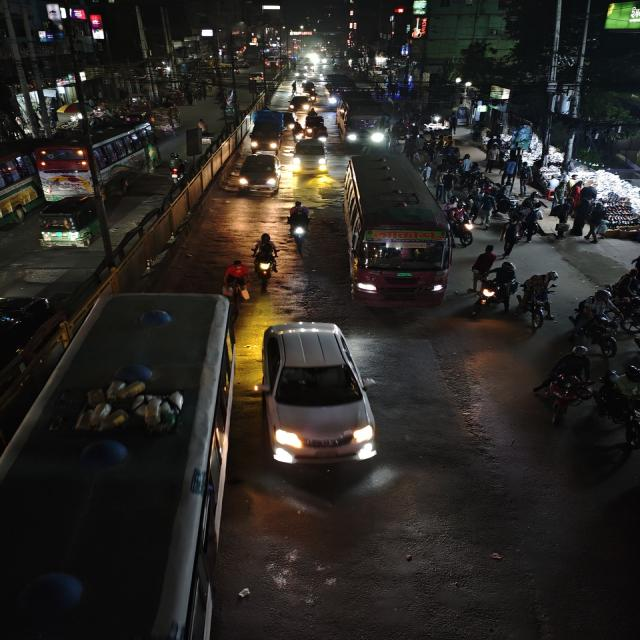bicycle: (525, 271, 556, 329), (221, 257, 253, 303)
bus: (0, 295, 240, 639), (340, 151, 451, 303), (37, 119, 157, 200), (0, 144, 43, 240), (336, 93, 390, 147)
car: (258, 316, 379, 473), (231, 152, 283, 198), (293, 137, 330, 175), (288, 95, 314, 113)
cng: (36, 194, 111, 250)
motorcycle: (536, 344, 595, 422), (475, 260, 518, 314), (248, 231, 281, 286), (445, 199, 475, 247), (220, 258, 252, 302), (286, 199, 314, 246), (622, 348, 640, 402), (165, 152, 188, 184), (290, 121, 305, 143)
pedestrian: (469, 244, 496, 292), (582, 202, 608, 244), (594, 320, 620, 360), (551, 196, 573, 239), (520, 200, 542, 242), (474, 189, 497, 229), (500, 215, 522, 255)
pickup_van: (248, 108, 288, 153)
